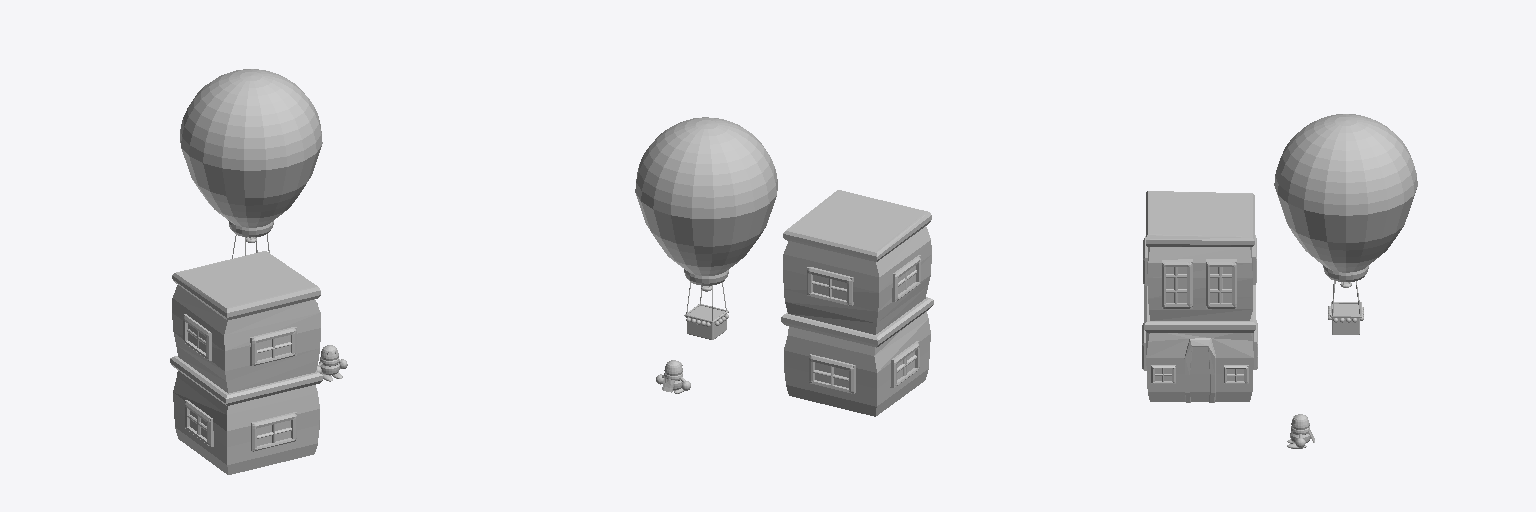
The model's file is scena.obj.
3 renders of one model, left to right at view 1: azimuth 30°, elevation 25°; view 2: azimuth 150°, elevation 25°; view 3: azimuth 270°, elevation 25°, orthographic.
Parts seen in each view (by area): view 1: edificio:pCube12, globo:pCylinder6, supercacahuate:pSphere6; view 2: edificio:pCube12, globo:pCylinder6, supercacahuate:pSphere6; view 3: edificio:pCube12, globo:pCylinder6, supercacahuate:pSphere6.
Boxes of the visible parts, x1,y1,x2,y2 form: edificio:pCube12: [170, 251, 322, 474]; globo:pCylinder6: [180, 69, 322, 258]; supercacahuate:pSphere6: [316, 345, 347, 381]; edificio:pCube12: [781, 190, 933, 416]; globo:pCylinder6: [635, 117, 777, 339]; supercacahuate:pSphere6: [656, 360, 690, 393]; edificio:pCube12: [1142, 191, 1257, 402]; globo:pCylinder6: [1274, 114, 1417, 334]; supercacahuate:pSphere6: [1287, 414, 1314, 448].
Size of the model in its own units: 21.29 by 30.04 by 25.15.